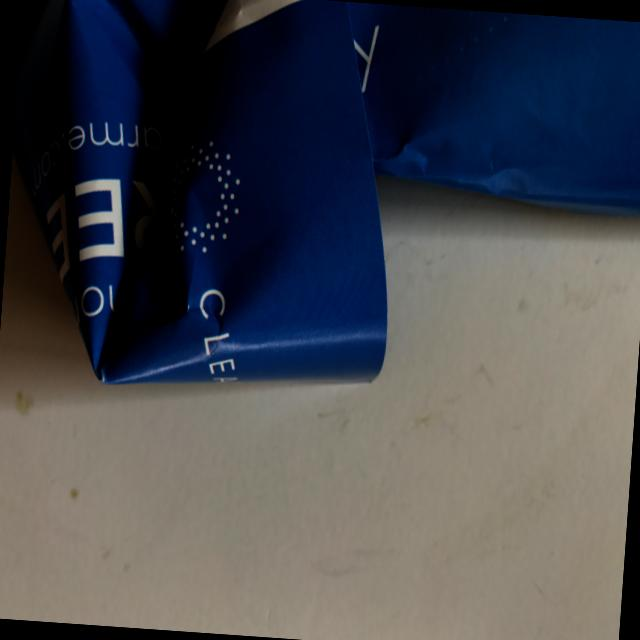Paper: (0, 0, 640, 464)
